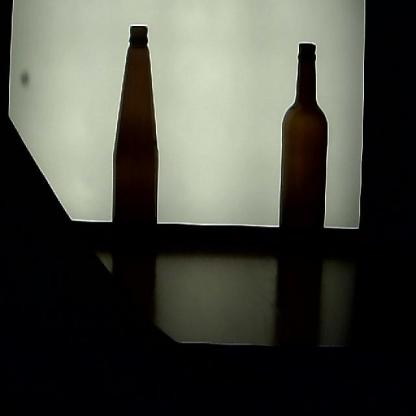Can: (276, 42, 328, 278), (110, 23, 160, 268)
